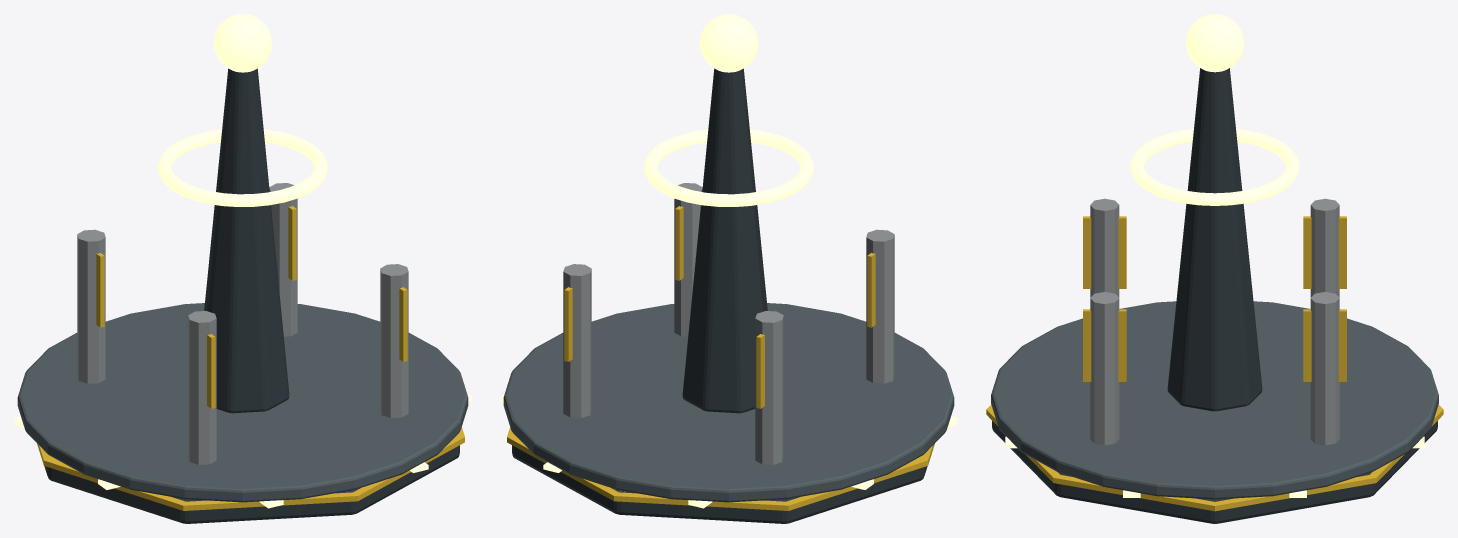
The model's file is alliance_hub.fbx.
The picture shows the model from 3 angles, left to right: view 1: azimuth 30°, elevation 25°; view 2: azimuth 150°, elevation 25°; view 3: azimuth 270°, elevation 25°; orthographic projection.
Visible parts, largest first — view 1: alliance_hub, ANIM_spin_z_20__emblem; view 2: alliance_hub, ANIM_spin_z_20__emblem; view 3: alliance_hub, ANIM_spin_z_20__emblem.
Boxes of the visible parts, x1=… form: alliance_hub: x1=14, y1=14, x2=471, y2=523; ANIM_spin_z_20__emblem: x1=158, y1=129, x2=327, y2=206; alliance_hub: x1=500, y1=14, x2=957, y2=523; ANIM_spin_z_20__emblem: x1=644, y1=129, x2=813, y2=206; alliance_hub: x1=986, y1=14, x2=1443, y2=523; ANIM_spin_z_20__emblem: x1=1130, y1=128, x2=1299, y2=205.
Bounding box in the file's own units: 4.69 × 4.7 × 4.69.
